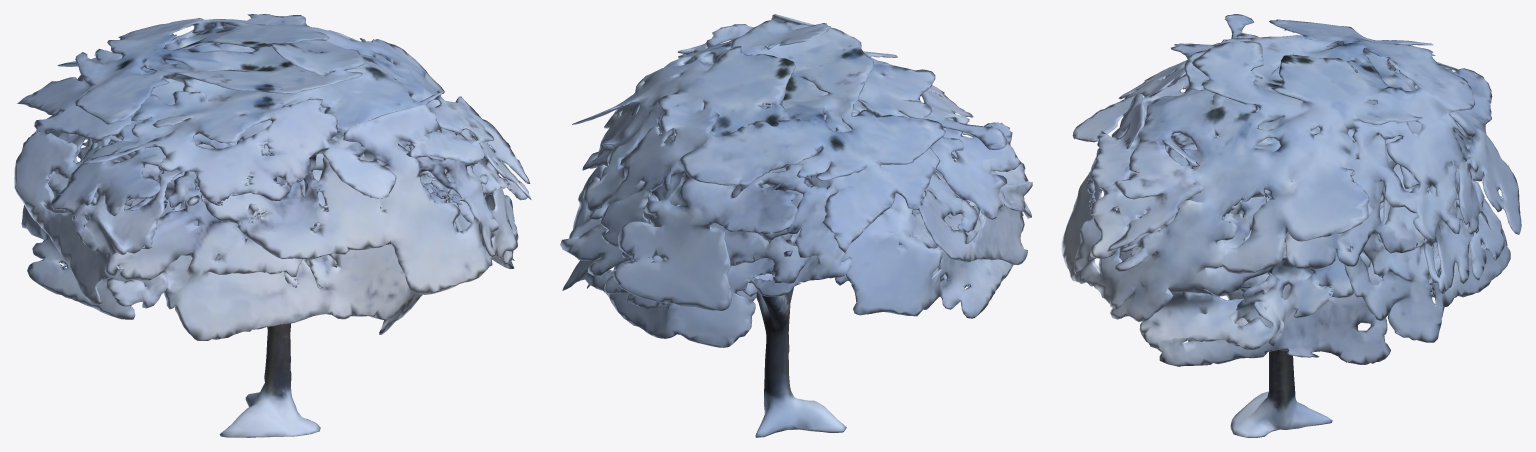
The model's file is Japanese_trees_coated_0423115206_refine.fbx.
3 views of the same model, side by side, from view 1: azimuth 30°, elevation 25°; view 2: azimuth 150°, elevation 25°; view 3: azimuth 270°, elevation 25° (orthographic). The views are drawn at different scales.
Parts seen in each view (by area): view 1: Mesh_0; view 2: Mesh_0; view 3: Mesh_0.
Boxes of the visible parts, x1=… form: Mesh_0: x1=14, y1=14, x2=531, y2=437; Mesh_0: x1=560, y1=14, x2=1032, y2=437; Mesh_0: x1=1061, y1=14, x2=1521, y2=437.
Bounding box in the file's own units: 194 × 175 × 194.
1 material, 1 textured.
